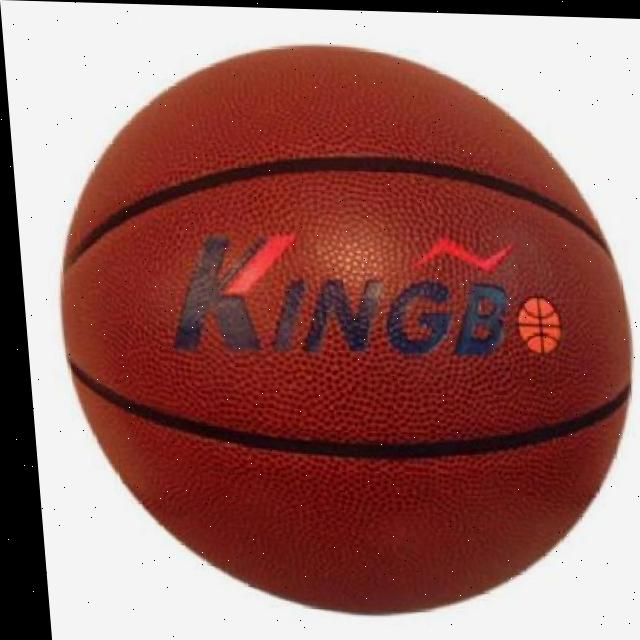Basketball: (29, 26, 640, 637)
